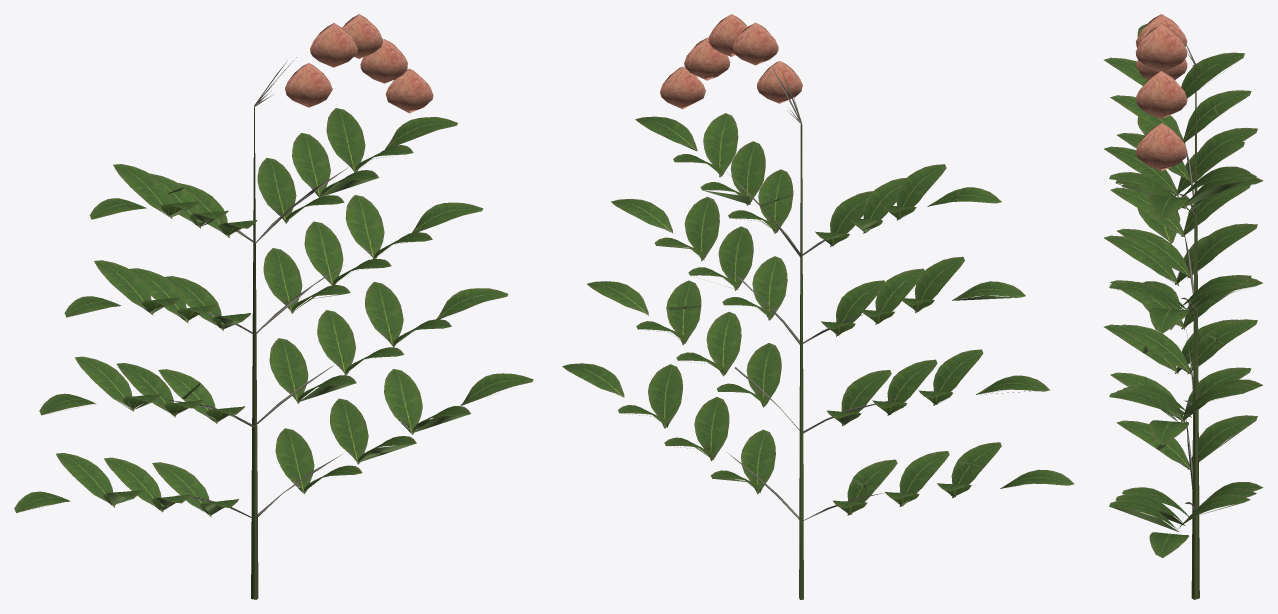
File: koelreuteria-macro-lite.glb
3 renders of one model, left to right at view 1: azimuth 30°, elevation 25°; view 2: azimuth 150°, elevation 25°; view 3: azimuth 270°, elevation 25°, orthographic. The views are drawn at different scales.
Visible parts, largest first — view 1: leaf, capsules, leaf-edge, stem, leaf-back, rachis; view 2: leaf, capsules, leaf-back, stem, leaf-edge, rachis; view 3: leaf, capsules, stem, leaf-edge, rachis.
Part boxes in pixels (x1,y1,x2,y2): leaf: (14, 108, 533, 516); capsules: (285, 14, 433, 113); leaf-edge: (17, 125, 470, 514); stem: (251, 106, 258, 599); leaf-back: (104, 157, 430, 513); rachis: (163, 57, 349, 518); leaf: (562, 113, 1074, 515); capsules: (660, 14, 802, 109); leaf-back: (652, 164, 971, 514); stem: (799, 124, 803, 599); leaf-edge: (617, 118, 1043, 514); rachis: (725, 68, 898, 520); leaf: (1104, 24, 1263, 557); capsules: (1135, 14, 1187, 171); stem: (1191, 66, 1199, 599); leaf-edge: (1106, 58, 1262, 531); rachis: (1178, 44, 1197, 510).
Size of the model in its own units: 0.4799 by 0.5013 by 0.1173.
Materials: 5 (4 with a texture image).
